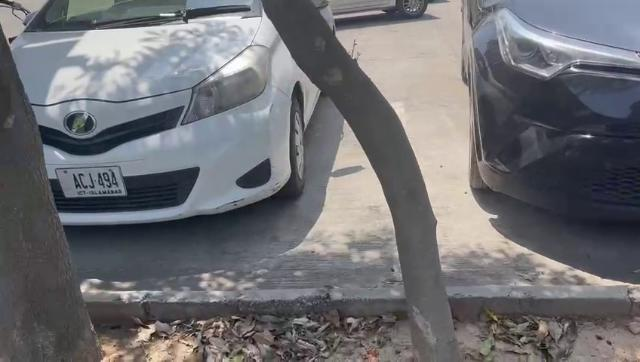plate: (57, 164, 128, 198)
